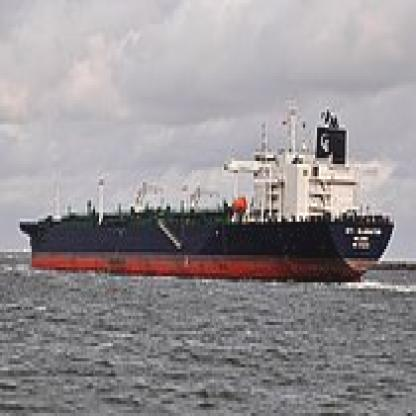Tanker: (26, 127, 392, 288)
